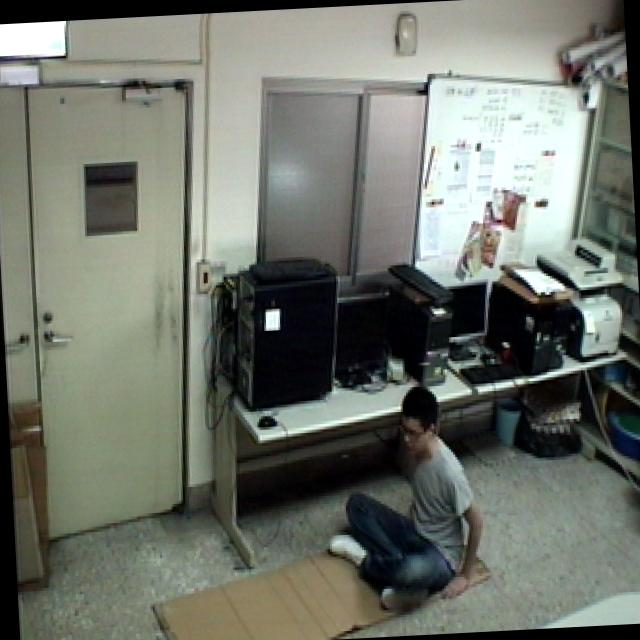sit: (310, 381, 493, 624)
